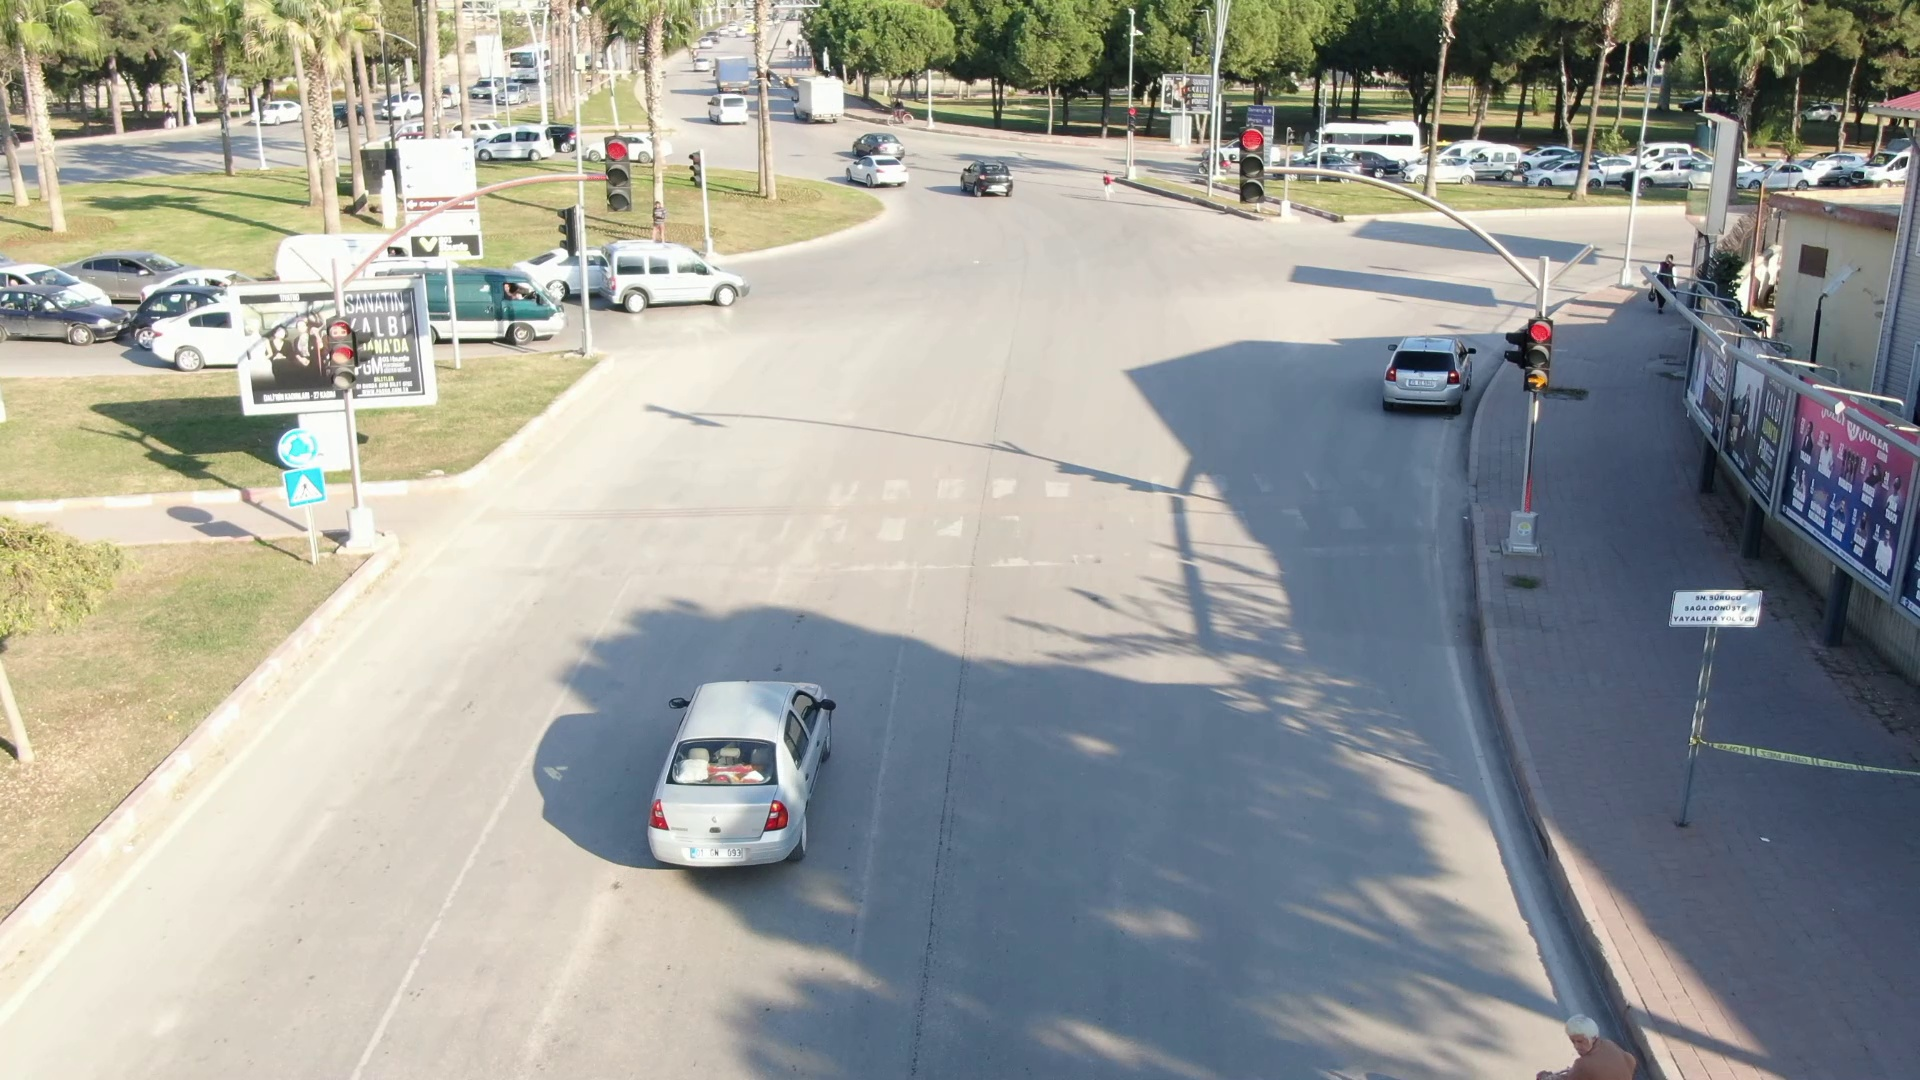car: (593, 630, 915, 895), (585, 231, 773, 327), (1360, 324, 1493, 434), (832, 144, 916, 196), (953, 152, 1026, 211), (699, 84, 753, 137)
